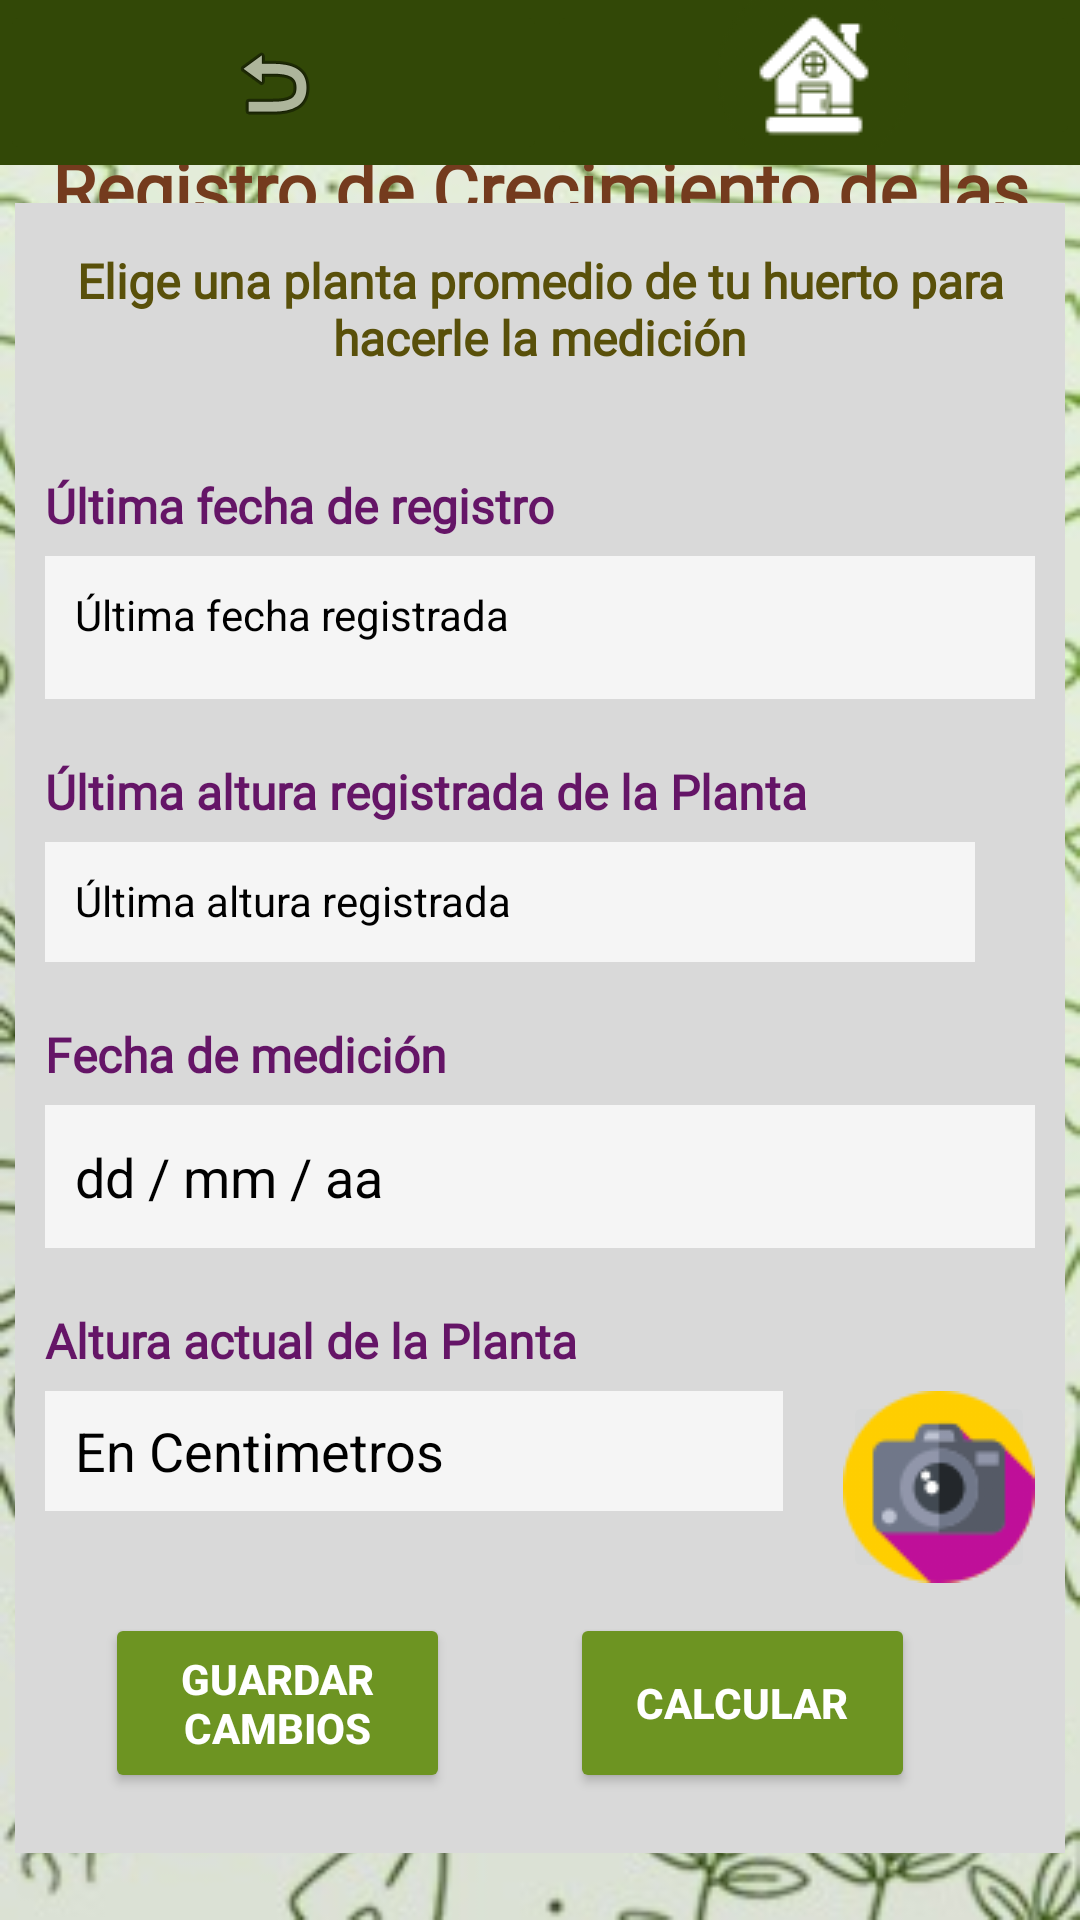

Icons on this 1080px x 1920px Android screen, each with the point to tap as point (x, y):
Foto final: point (939, 1487)
Home: point (814, 75)
